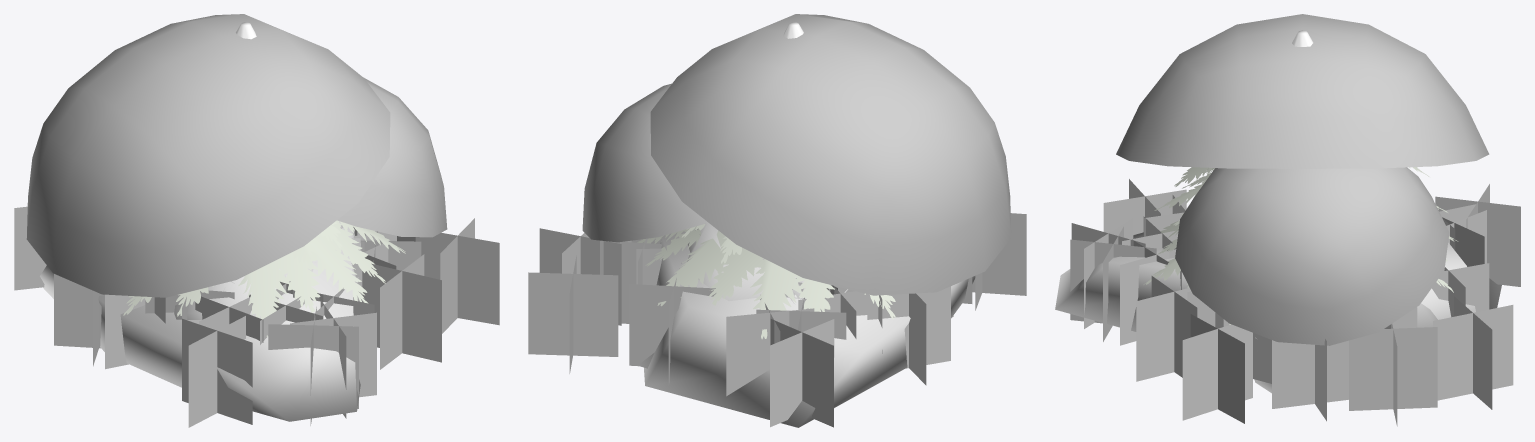
Rendered from Map_Assets_v1.fbx.
3 renders of one model, left to right at view 1: azimuth 30°, elevation 25°; view 2: azimuth 150°, elevation 25°; view 3: azimuth 270°, elevation 25°, orthographic. The views are drawn at different scales.
Visible parts, largest first — view 1: Chibi_gen_tree, Grass_01_Map, Grass_02_Map, Rock_07_low_Map, Chibi_cyp, Rock_01_low_Map; view 2: Chibi_gen_tree, Grass_01_Map, Grass_02_Map, Rock_07_low_Map, Chibi_cyp, Rock_01_low_Map; view 3: Chibi_gen_tree, Grass_02_Map, Grass_01_Map, Rock_07_low_Map, Chibi_cyp.
Part boxes in pixels (x1,y1,x2,y2): Chibi_gen_tree: (26, 14, 447, 297); Grass_01_Map: (14, 206, 441, 418); Grass_02_Map: (145, 218, 499, 427); Rock_07_low_Map: (40, 221, 362, 421); Chibi_cyp: (123, 22, 405, 336); Rock_01_low_Map: (174, 275, 286, 319); Chibi_gen_tree: (582, 14, 1011, 295); Grass_01_Map: (539, 228, 972, 427); Grass_02_Map: (528, 213, 1026, 385); Rock_07_low_Map: (644, 231, 975, 427); Chibi_cyp: (637, 22, 895, 339); Rock_01_low_Map: (638, 223, 803, 368); Chibi_gen_tree: (1116, 14, 1489, 345); Grass_02_Map: (1071, 179, 1513, 423); Grass_01_Map: (1070, 184, 1520, 426); Rock_07_low_Map: (1055, 232, 1501, 331); Chibi_cyp: (1143, 30, 1458, 324).
Size of the model in its own units: 192 by 166 by 197.
